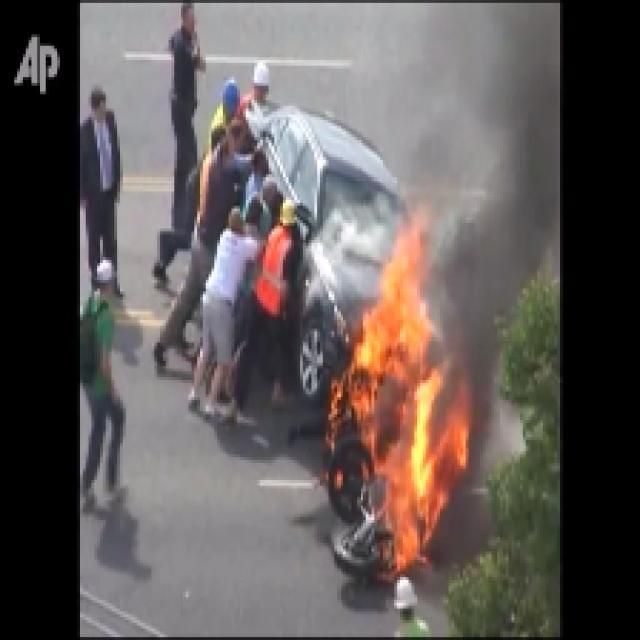Fire: (346, 301, 446, 540)
Smoke: (480, 31, 526, 300)
